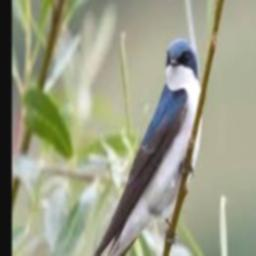Swallow: (83, 38, 202, 256)
